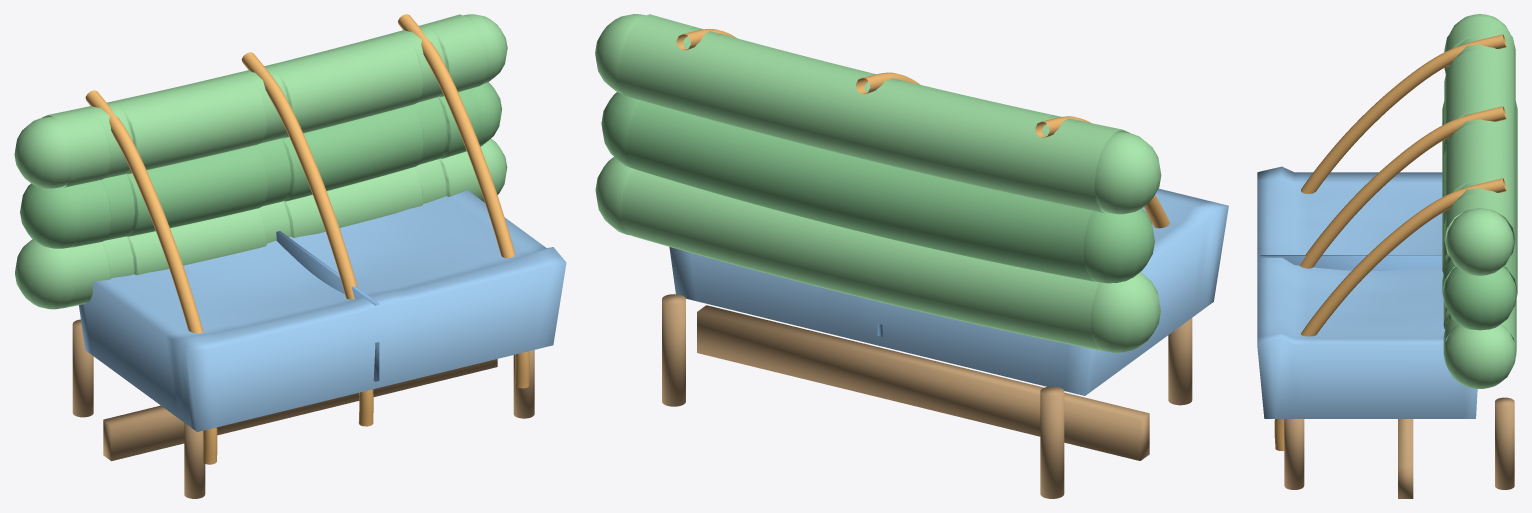
The model's file is green-couch-v3.glb.
3 views of the same model, side by side, from view 1: azimuth 30°, elevation 25°; view 2: azimuth 150°, elevation 25°; view 3: azimuth 270°, elevation 25° (orthographic). The views are drawn at different scales.
Parts seen in each view (by area): view 1: blue_seat, tube_2, tube_1, tube_0, base_rail, strap_1, strap_2, strap_0, tube_1_cap_-1.0, tube_0_cap_-1.0, tube_2_cap_-1.0, leg_-0.58_0.34 (+6 smaller); view 2: tube_2, tube_1, tube_0, blue_seat, base_rail, tube_1_cap_-1.0, tube_0_cap_-1.0, tube_2_cap_-1.0, leg_-0.58_0.34, leg_0.58_0.34, leg_-0.58_-0.34, tube_2_cap_1.0 (+3 smaller); view 3: blue_seat, tube_2, tube_0_cap_1.0, tube_1_cap_1.0, tube_2_cap_1.0, strap_2, strap_1, strap_0, leg_0.58_0.34, seat_seam, leg_0.58_-0.34, tube_1 (+2 smaller).
Part boxes in pixels (x1,y1,x2,y2): blue_seat: (79,190,566,431); tube_2: (41,14,487,187); tube_1: (71,89,479,247); tube_0: (63,151,483,308); base_rail: (103,359,497,461); strap_1: (241,52,373,426); strap_2: (398,14,529,388); strap_0: (85,90,217,464); tube_1_cap_-1.0: (20,183,82,248); tube_0_cap_-1.0: (15,239,75,309); tube_2_cap_-1.0: (14,117,72,188); leg_-0.58_0.34: (72,319,93,417); tube_2: (618,14,1130,213); tube_1: (627,100,1095,281); tube_0: (621,168,1105,351); blue_seat: (669,188,1228,395); base_rail: (697,305,1149,460); tube_1_cap_-1.0: (1083,208,1154,283); tube_0_cap_-1.0: (1090,272,1160,352); tube_2_cap_-1.0: (1094,132,1161,214); leg_-0.58_0.34: (1040,386,1064,498); leg_0.58_0.34: (662,294,685,406); leg_-0.58_-0.34: (1168,318,1192,405); tube_2_cap_1.0: (595,14,645,94); blue_seat: (1257,166,1477,418); tube_2: (1444,18,1515,256); tube_0_cap_1.0: (1443,324,1516,388); tube_1_cap_1.0: (1443,266,1516,330); tube_2_cap_1.0: (1446,208,1513,275); strap_2: (1274,178,1506,450); strap_1: (1299,106,1506,268); strap_0: (1301,34,1506,193); leg_0.58_0.34: (1495,397,1514,489); seat_seam: (1260,255,1442,271); leg_0.58_-0.34: (1284,419,1304,489); tube_1: (1442,101,1517,306).
Size of the model in its own units: 1.7 by 1.08 by 0.842.
